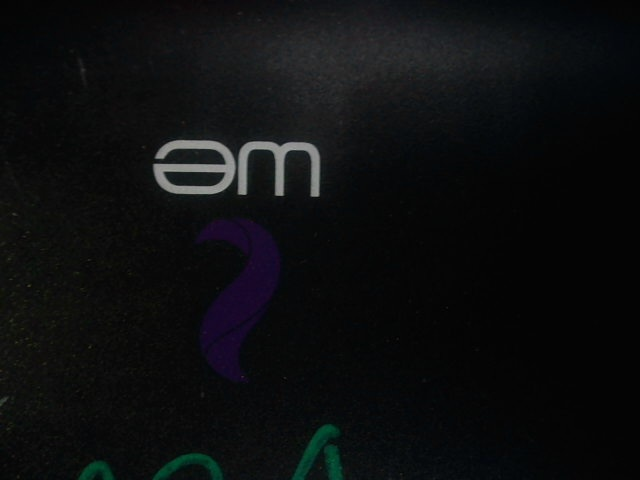AT_We: (143, 135, 328, 385)
